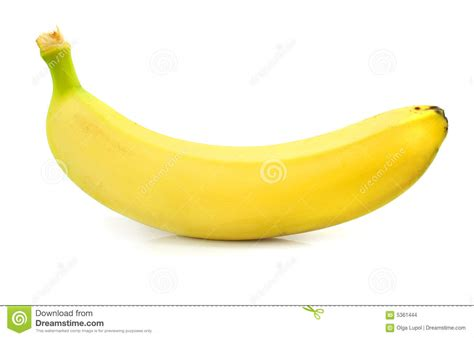banana: (42, 87, 452, 243)
